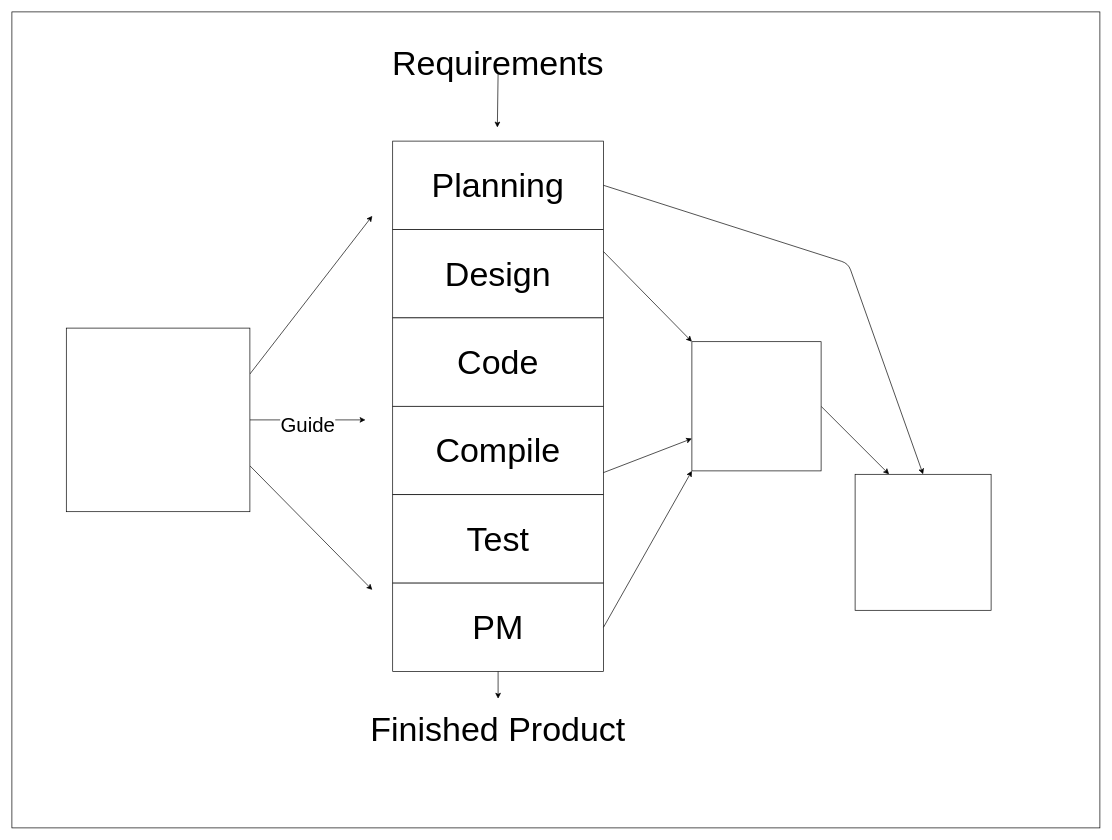
The diagram is 1112 pixels wide and 840 high, and some of its shapes have lost their labels. The shapes that lost their labels are listed below. From the top down, each one's box as (x1, y1, x2, y2) in pixels, then its label:
(66, 327, 250, 512): Scripts
(691, 341, 821, 471): Logs
(854, 474, 991, 610): Project Summary
